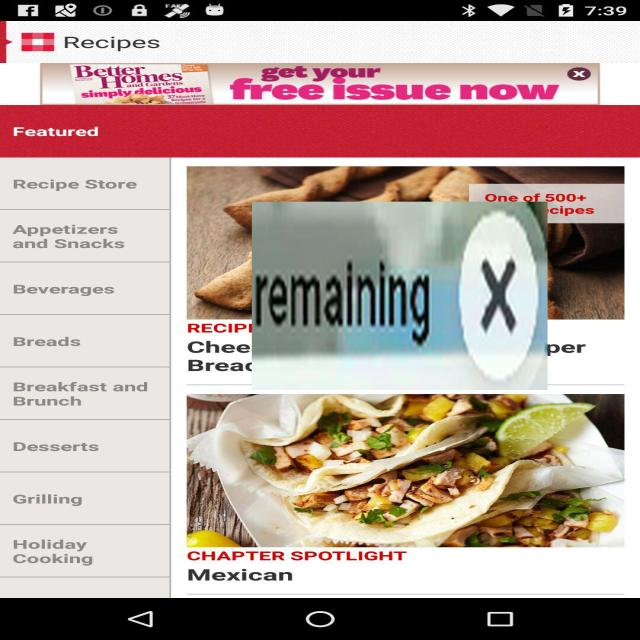misdirection: (252, 202, 547, 390)
